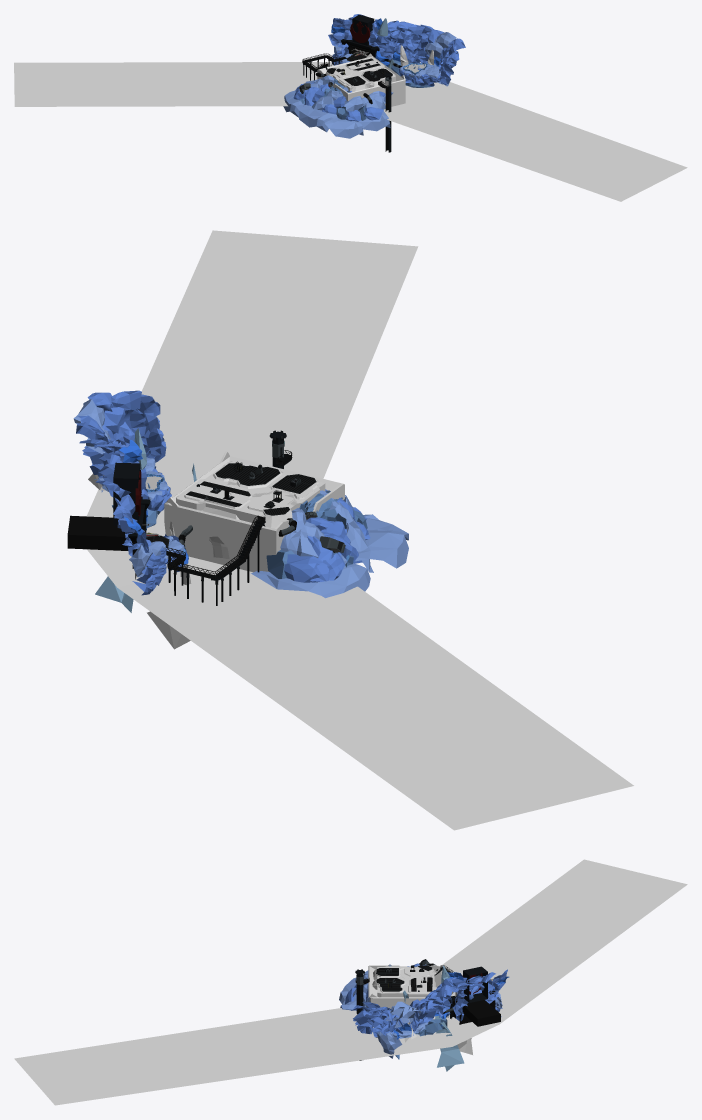
The model's file is LVL2_Room3.fbx.
3 views of the same model, one above another, from view 1: azimuth 30°, elevation 25°; view 2: azimuth 150°, elevation 25°; view 3: azimuth 270°, elevation 25° (orthographic). The views are drawn at different scales.
Parts seen in each view (by area): view 1: River2, Wall, Walls1, Building, OutWall, LakeGround, Rejilla1, Fences, Column69, polySurface256; view 2: River2, Wall, Walls1, OutWall, Building, Fences, Rejilla1, polySurface256, Spikes, LakeGround; view 3: River2, Wall, Building, OutWall, Rejilla1, Walls1, LakeGround.
Part boxes in pixels (x1=…): River2: x1=14, y1=62, x2=687, y2=201; Wall: x1=328, y1=14, x2=465, y2=85; Walls1: x1=283, y1=75, x2=393, y2=138; Building: x1=341, y1=14, x2=379, y2=61; OutWall: x1=317, y1=53, x2=405, y2=106; LakeGround: x1=399, y1=62, x2=450, y2=87; Rejilla1: x1=327, y1=58, x2=392, y2=85; Fences: x1=302, y1=53, x2=388, y2=88; Column69: x1=384, y1=72, x2=392, y2=152; polySurface256: x1=325, y1=65, x2=393, y2=91; River2: x1=86, y1=230, x2=633, y2=830; Wall: x1=73, y1=390, x2=196, y2=612; Walls1: x1=251, y1=489, x2=408, y2=598; OutWall: x1=164, y1=451, x2=344, y2=572; Building: x1=67, y1=462, x2=169, y2=579; Fences: x1=166, y1=450, x2=292, y2=605; Rejilla1: x1=186, y1=463, x2=316, y2=515; polySurface256: x1=184, y1=470, x2=318, y2=528; Spikes: x1=147, y1=521, x2=229, y2=649; LakeGround: x1=94, y1=457, x2=171, y2=527; River2: x1=14, y1=859, x2=687, y2=1105; Wall: x1=351, y1=965, x2=509, y2=1071; Building: x1=448, y1=966, x2=500, y2=1026; OutWall: x1=368, y1=965, x2=442, y2=1008; Rejilla1: x1=376, y1=965, x2=432, y2=991; Walls1: x1=339, y1=963, x2=454, y2=1011; LakeGround: x1=375, y1=1022, x2=428, y2=1059.
Size of the model in its own units: 317 by 67.51 by 366.
